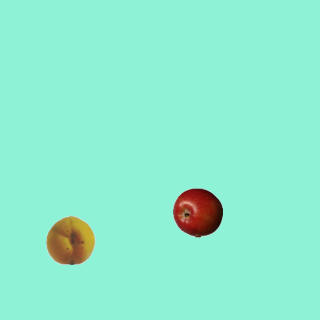Apple Braeburn: (172, 187, 222, 237)
Peach 2: (45, 214, 95, 264)
